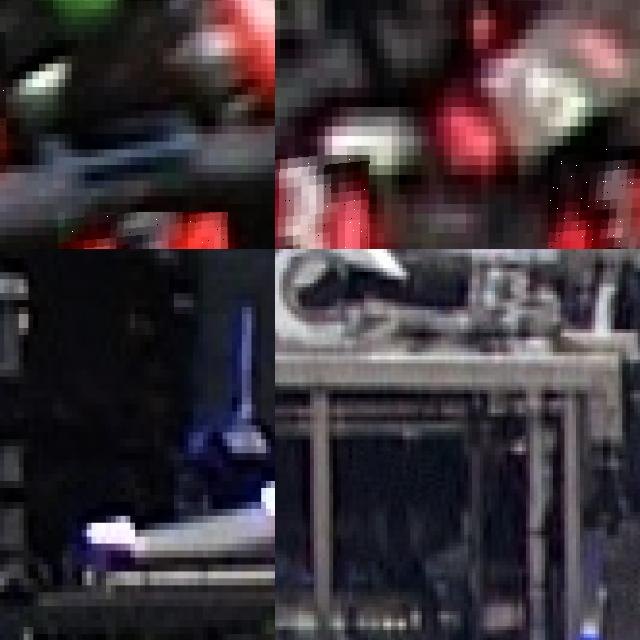R3: (548, 146, 640, 249), (275, 155, 369, 249), (58, 211, 228, 249)
